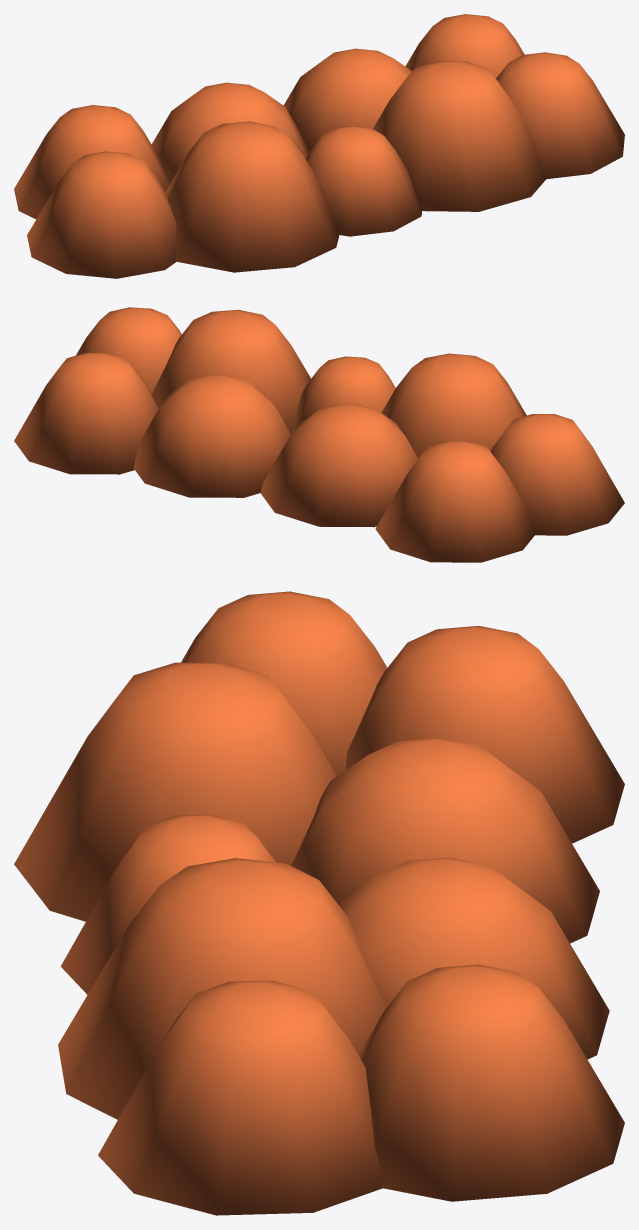
The model's file is Mountain.fbx.
3 renders of one model, top to bottom at view 1: azimuth 30°, elevation 25°; view 2: azimuth 150°, elevation 25°; view 3: azimuth 270°, elevation 25°, orthographic. The views are drawn at different scales.
Parts seen in each view (by area): view 1: Cylinder; view 2: Cylinder; view 3: Cylinder.
Part boxes in pixels (<box>): Cylinder: <box>14,14,624,278</box>; Cylinder: <box>14,307,624,562</box>; Cylinder: <box>14,591,624,1215</box>.
Size of the model in its own units: 3846 by 648 by 1914.
